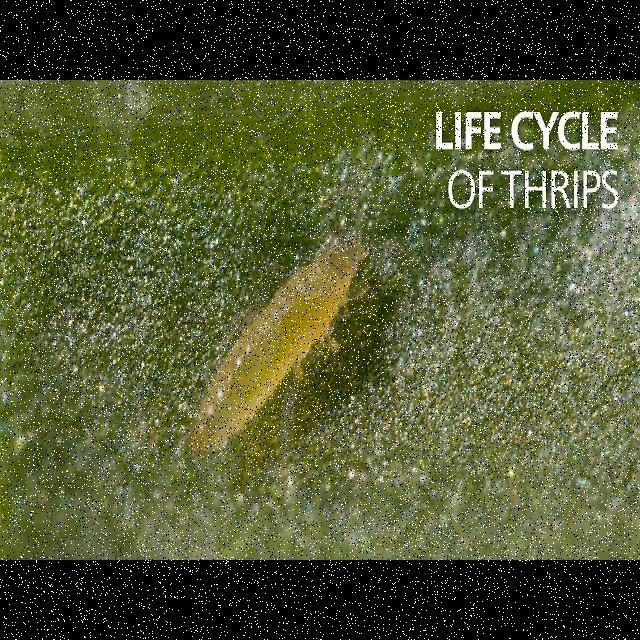Thrips: (164, 219, 390, 495)
